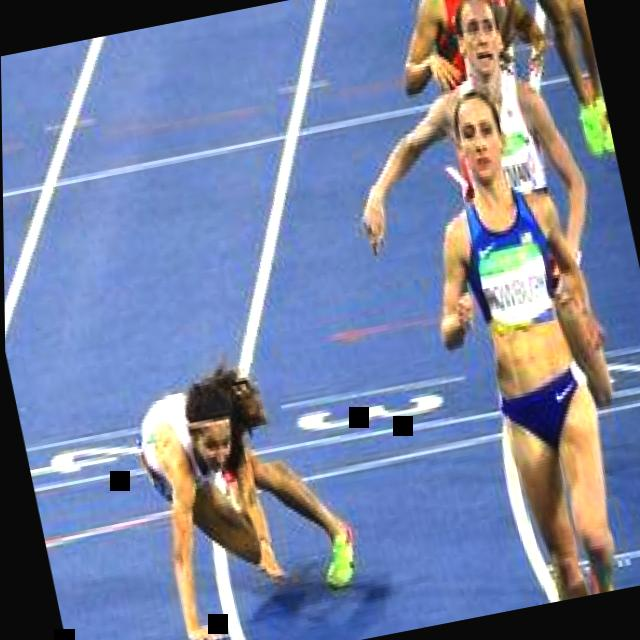Fall-Detected: (105, 320, 369, 640)
